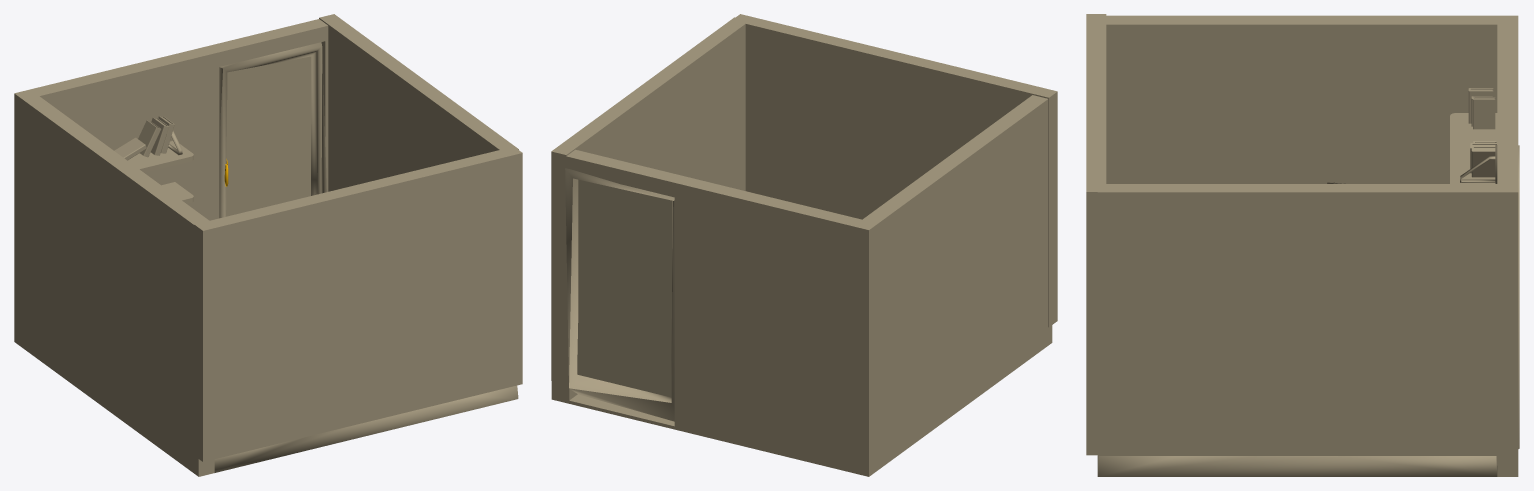
The model's file is roomLevel1.fbx.
3 views of the same model, side by side, from view 1: azimuth 30°, elevation 25°; view 2: azimuth 150°, elevation 25°; view 3: azimuth 270°, elevation 25° (orthographic). The views are drawn at different scales.
Parts seen in each view (by area): view 1: Cube.034, Cube.002, Cube.022, Cube, Cube.003, Cube.042, Cube.028; view 2: Cube.002, Cube.034, Cube.022, Cube.003; view 3: Cube.034, Cube.002, Cube, Cube.042, Cube.028, Cube.003.
Boxes of the visible parts, bbox=[...] form: Cube.034: bbox=[194, 14, 522, 461]; Cube.002: bbox=[14, 19, 328, 476]; Cube.022: bbox=[224, 56, 311, 216]; Cube: bbox=[214, 385, 518, 472]; Cube.003: bbox=[219, 42, 326, 218]; Cube.042: bbox=[114, 116, 174, 160]; Cube.028: bbox=[127, 141, 193, 172]; Cube.002: bbox=[551, 95, 1052, 476]; Cube.034: bbox=[551, 14, 1057, 380]; Cube.022: bbox=[577, 179, 672, 397]; Cube.003: bbox=[565, 168, 674, 421]; Cube.034: bbox=[1086, 14, 1518, 455]; Cube.002: bbox=[1106, 15, 1518, 476]; Cube: bbox=[1097, 456, 1497, 476]; Cube.042: bbox=[1468, 88, 1496, 177]; Cube.028: bbox=[1450, 113, 1497, 183]; Cube.003: bbox=[1495, 145, 1519, 465].
Bounding box in the file's own units: 2.01 × 1.49 × 2.06.
